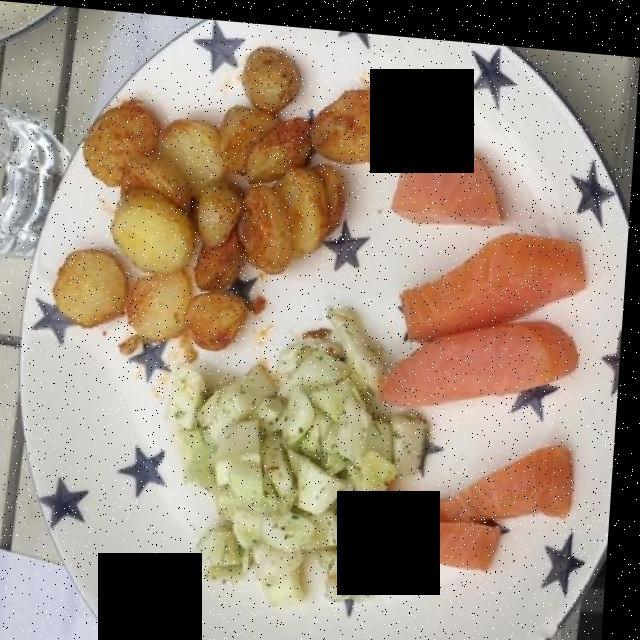cake: (159, 314, 455, 600)
potatoes: (58, 42, 384, 350)
salmon: (376, 103, 573, 591)
